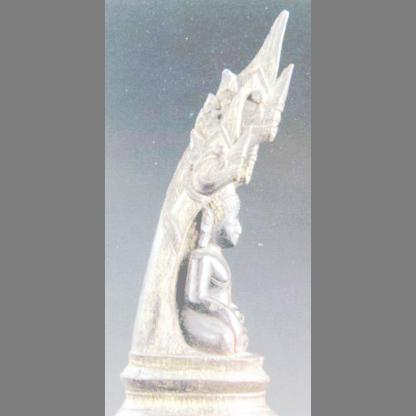buddha-sitting: (179, 184, 248, 356)
